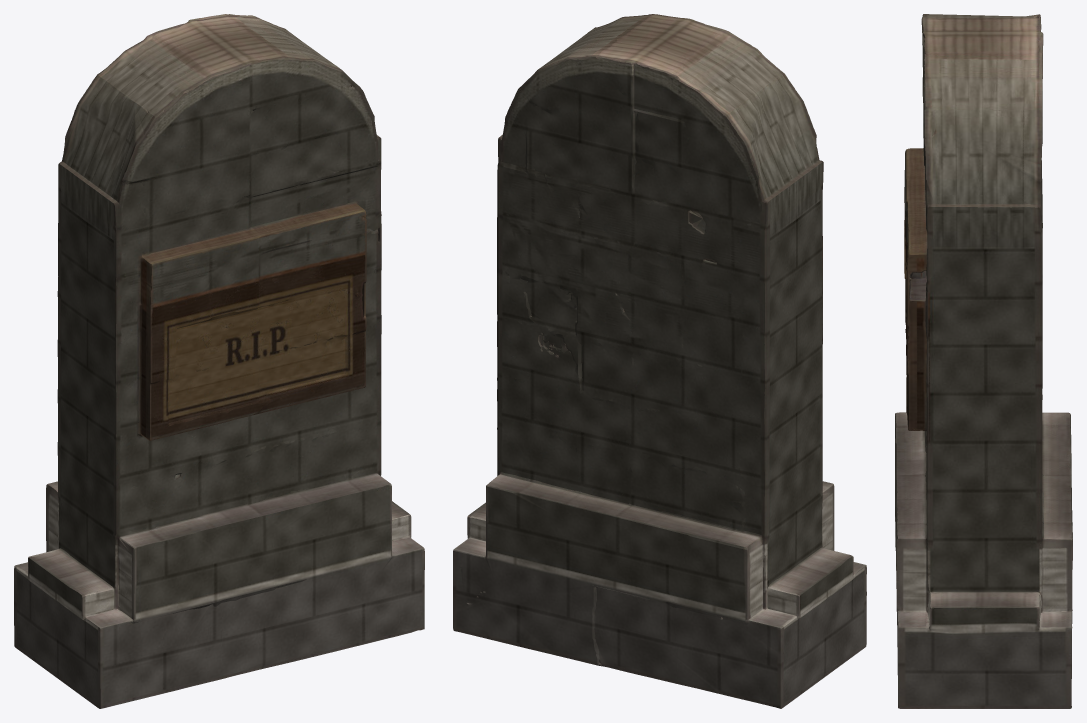
Rendered from scene-6-objects-9-glbData-3cc9b66ea2bb.glb.
The picture shows the model from 3 angles, left to right: view 1: azimuth 30°, elevation 25°; view 2: azimuth 150°, elevation 25°; view 3: azimuth 270°, elevation 25°; orthographic projection.
Parts seen in each view (by area): view 1: Tomb_Optimized; view 2: Tomb_Optimized; view 3: Tomb_Optimized.
Part boxes in pixels (box(x1,y1,x2,y2)): Tomb_Optimized: box(14, 14, 424, 708); Tomb_Optimized: box(453, 14, 866, 708); Tomb_Optimized: box(895, 14, 1072, 708).
Size of the model in its own units: 0.8988 by 1.55 by 0.4183.
Materials: 1 (1 with a texture image).
